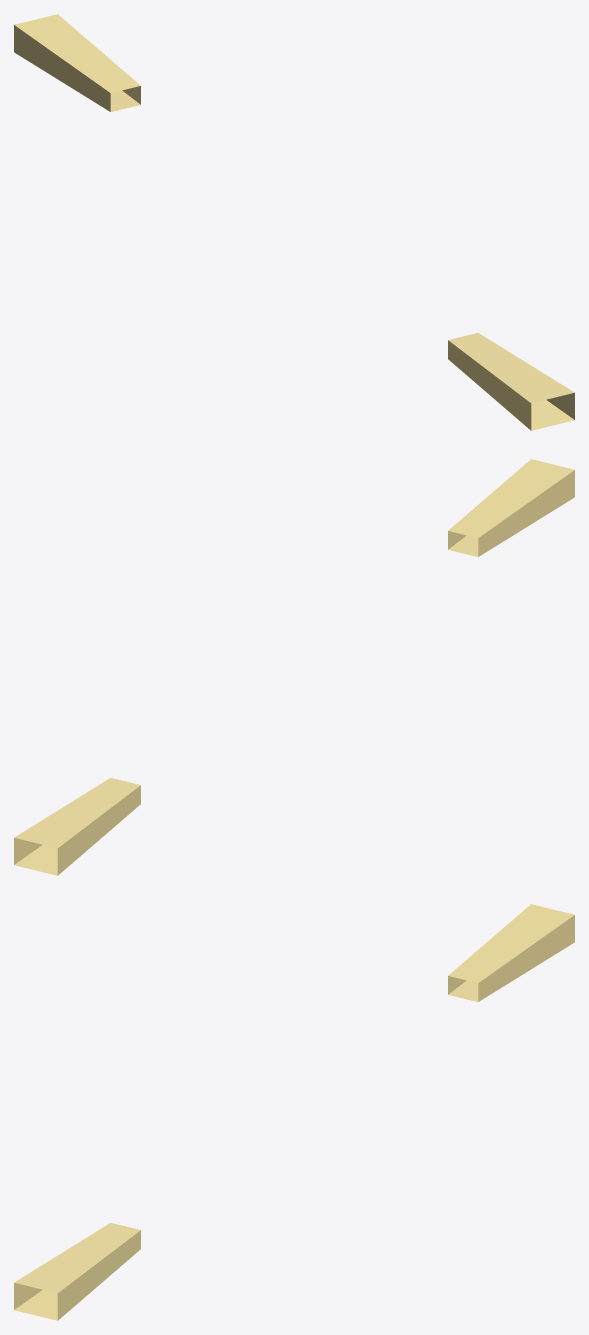
File: infra_lighthouse_beams_3.glb
3 renders of one model, top to bottom at view 1: azimuth 30°, elevation 25°; view 2: azimuth 150°, elevation 25°; view 3: azimuth 330°, elevation 25°, orthographic.
Size of the model in its own units: 4.5 by 2.7 by 92.
